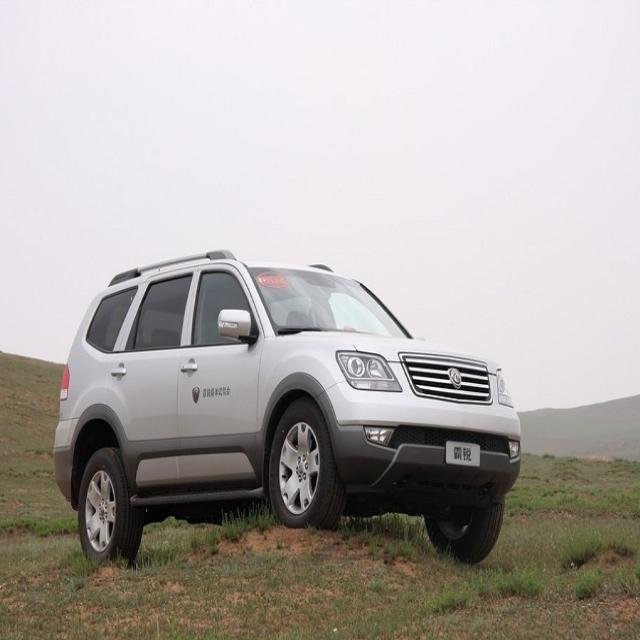back_right_side_light: (57, 358, 72, 405)
door: (124, 272, 198, 490)
front_bumper: (316, 374, 522, 496)
front_glass: (246, 263, 411, 341)
front_left_side_light: (496, 367, 514, 408)
front_right_side_door: (175, 260, 264, 490)
front_right_side_light: (336, 348, 404, 394)
front_right_side_mirror: (217, 304, 252, 342)
rear_bumper: (54, 416, 88, 504)
wheel: (268, 398, 339, 532), (77, 448, 136, 566), (423, 496, 507, 560)
